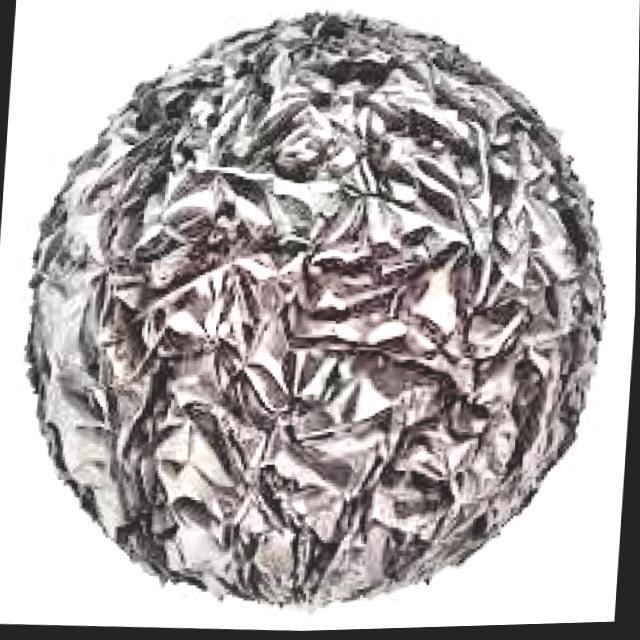Foil: (0, 0, 637, 618)
